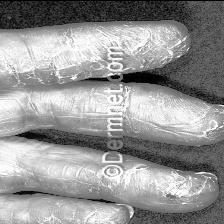Non-Cancerous Skin Condition: (126, 22, 162, 68), (162, 174, 208, 200), (188, 106, 224, 134)
